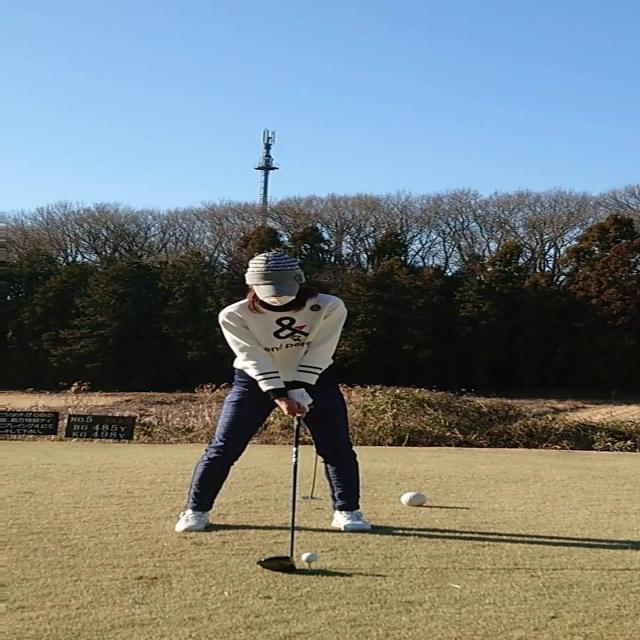golf ball: (300, 554, 318, 562)
golf club-handle: (254, 411, 305, 571)
golf club-head: (257, 556, 298, 573)
